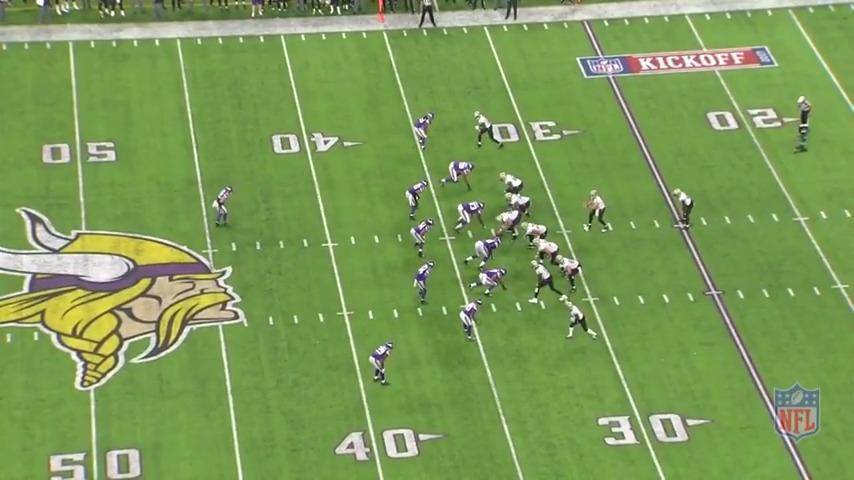defense: (462, 236, 504, 270), (467, 266, 508, 297), (369, 340, 395, 388), (410, 216, 437, 259), (453, 200, 488, 233), (413, 259, 437, 307), (440, 159, 477, 190), (213, 184, 236, 232), (460, 297, 485, 341), (405, 178, 430, 221), (415, 112, 436, 154)
oline: (494, 208, 523, 241), (531, 238, 562, 268), (521, 222, 550, 251), (505, 192, 533, 221), (500, 171, 527, 197)
qb: (583, 188, 612, 235)
ref: (414, 0, 439, 30), (795, 93, 813, 130)
skill: (528, 258, 565, 307), (563, 298, 601, 342), (472, 110, 506, 152), (672, 186, 699, 233), (556, 253, 584, 293)
